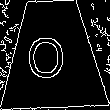O_N: (33, 28, 74, 81)
